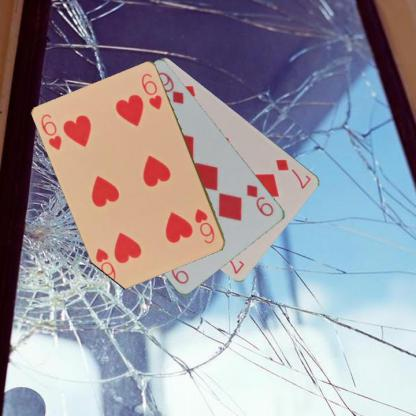6h: (38, 111, 63, 151), (192, 206, 216, 245)
7d: (273, 156, 313, 190)
9d: (244, 181, 275, 218)
